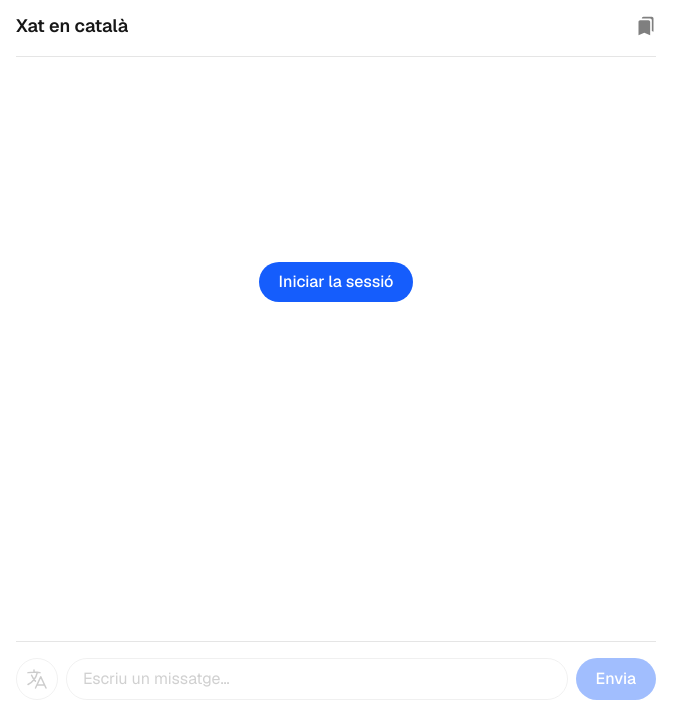
Scenario: translating › sends the text to be translated, exactly as entered, while it's on
Click the button "Iniciar la sessió" at {"x": 336, "y": 282}, box [258,262,414,302]
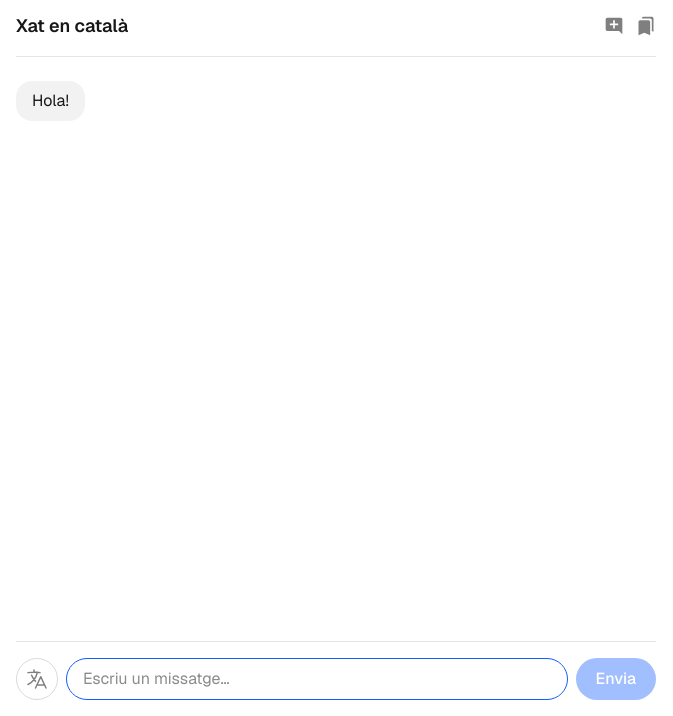
Click the button named "Tradueix" at {"x": 37, "y": 679}, box [16,658,58,700]
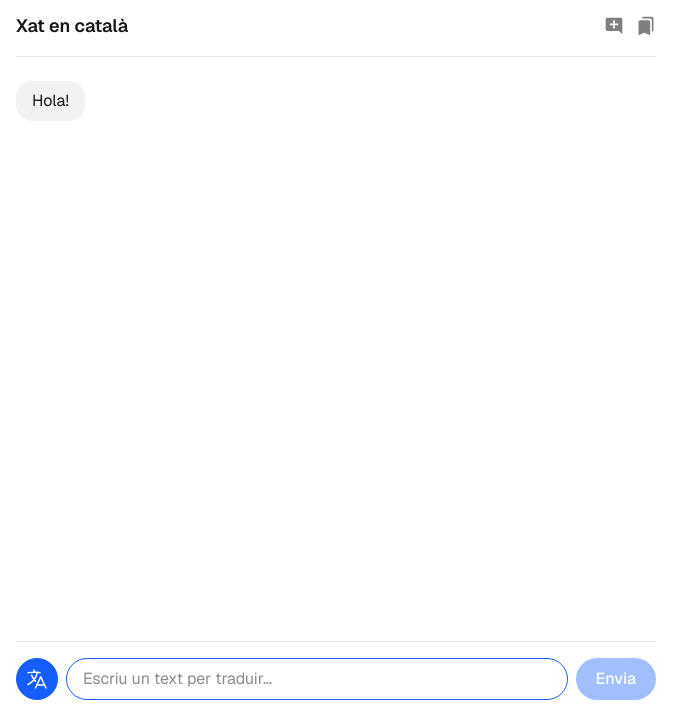
Now the button named "Tradueix" is pressed, box [16,658,58,700]
Type "Where do you live?" into the field at {"x": 317, "y": 679}, box [66,658,568,700]
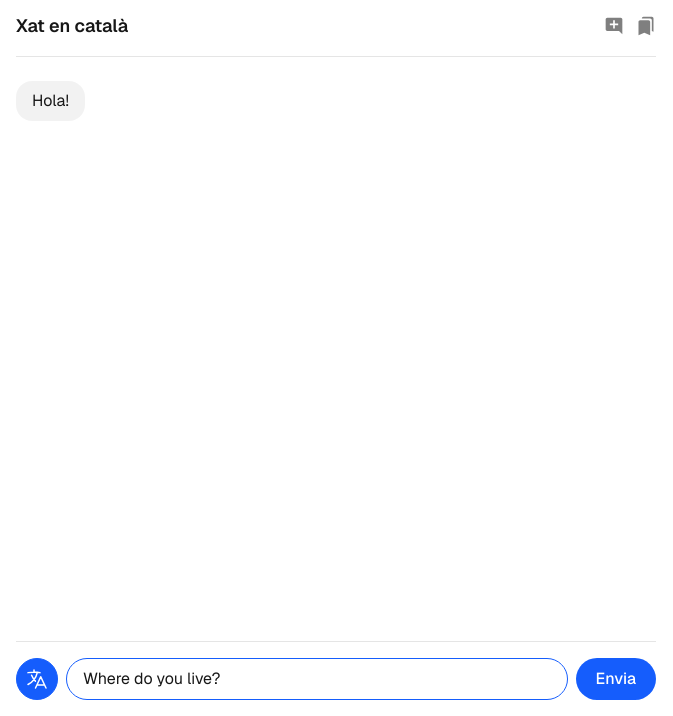
Submit the form, box [16,641,656,715]
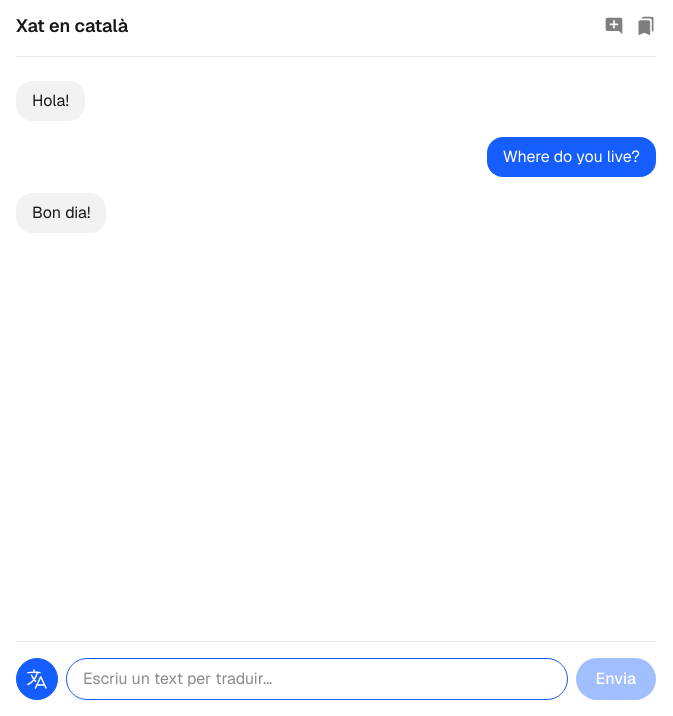
Now the text "Where do you live?" is shown, box [487,137,656,177]
